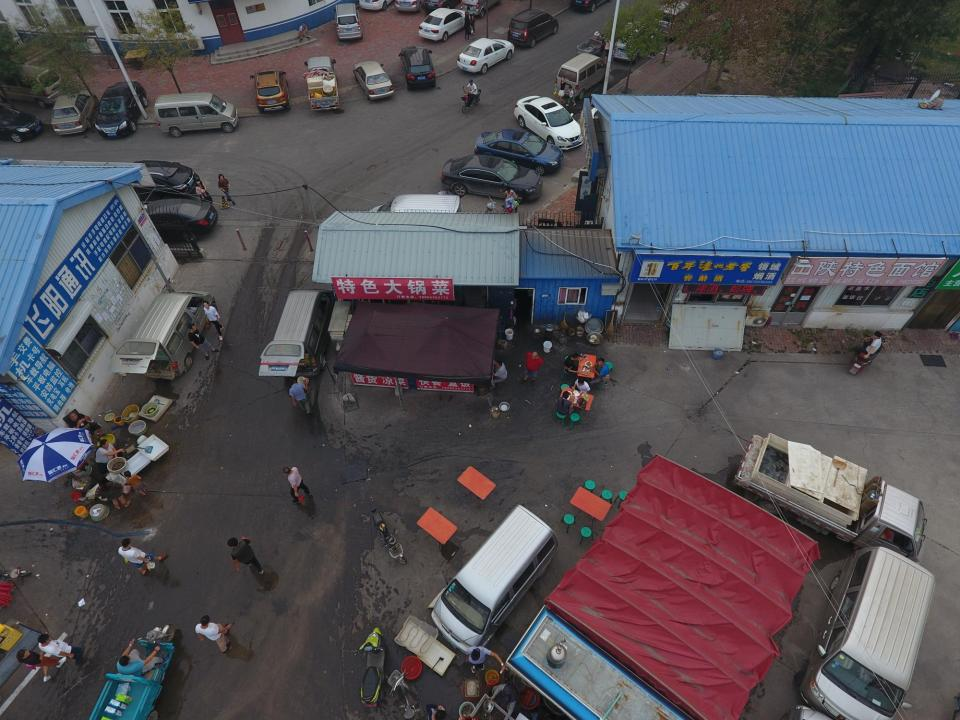car: (440, 154, 542, 200), (474, 130, 563, 176), (105, 159, 200, 201), (126, 199, 218, 242), (514, 95, 585, 150), (95, 81, 147, 138), (52, 90, 100, 136), (457, 37, 514, 74), (508, 9, 558, 48), (249, 68, 291, 112), (352, 60, 394, 101), (419, 8, 468, 42), (399, 45, 435, 91), (0, 105, 42, 144), (569, 0, 612, 12), (423, 1, 461, 12)
truck: (734, 434, 925, 570), (304, 56, 340, 111)
van: (797, 545, 936, 719), (431, 505, 558, 658), (111, 289, 216, 380), (258, 289, 336, 377), (154, 92, 238, 138), (370, 194, 462, 234), (0, 64, 64, 108), (555, 52, 607, 100), (652, 1, 698, 40), (612, 21, 652, 64), (332, 3, 362, 42), (460, 0, 499, 17)
